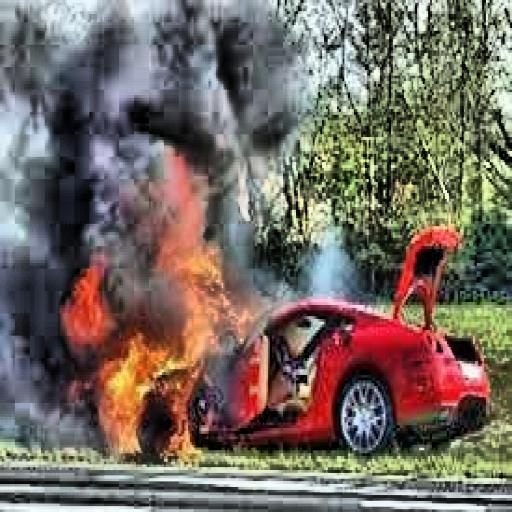fire: (69, 134, 266, 468)
